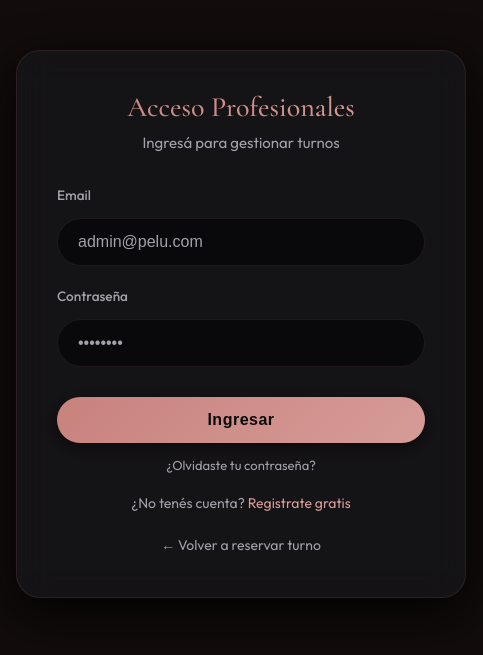
Test: StaffLogin › shows error on failed login
This screenshot has width=483, height=655.
Type "test@test.com" into the field with placeholder "admin@pelu.com". click: coordinates (241, 242)
box: [57,218,425,266]
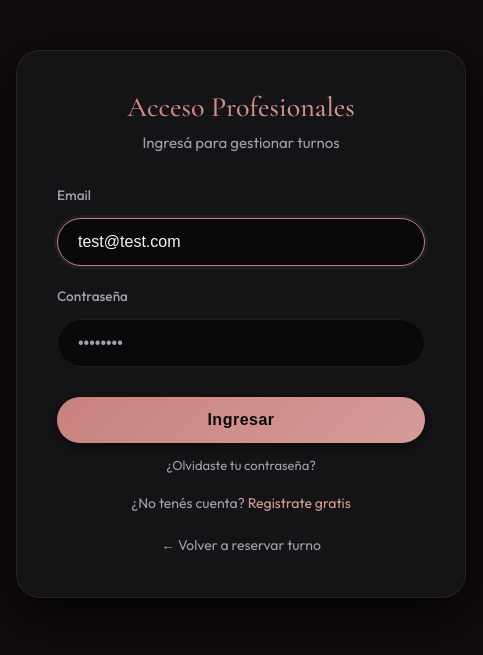
Type "wrong" into the password field with placeholder "••••••••". click: coordinates (241, 343)
box: [57,319,425,367]
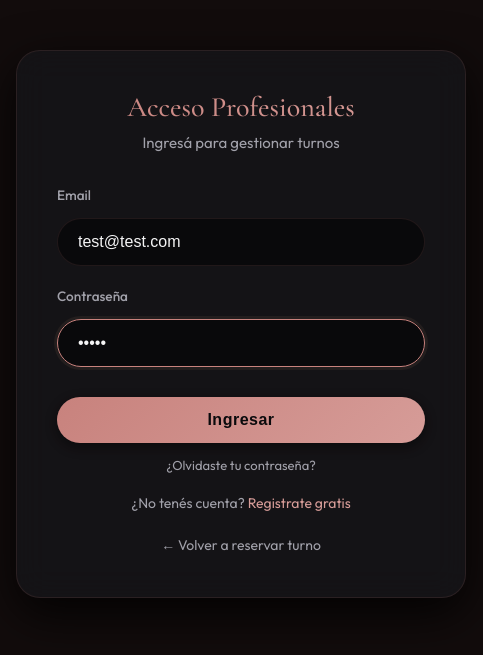
Click the button "Ingresar". click: coordinates (241, 420)
box: [57,397,425,443]
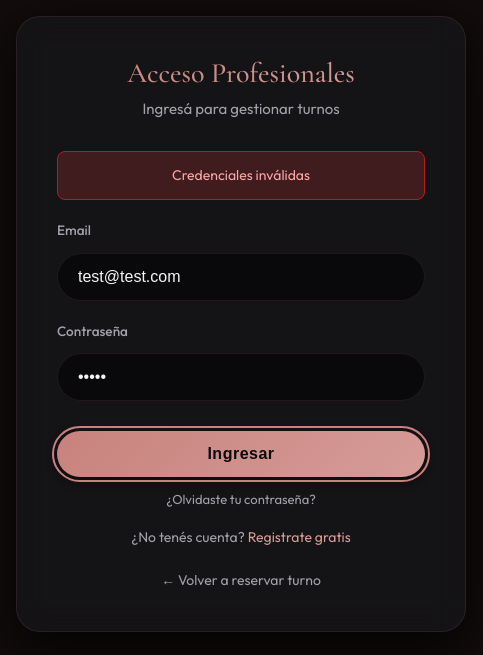
Expected: the text "Credenciales inválidas" is shown, [57,151,425,200]
